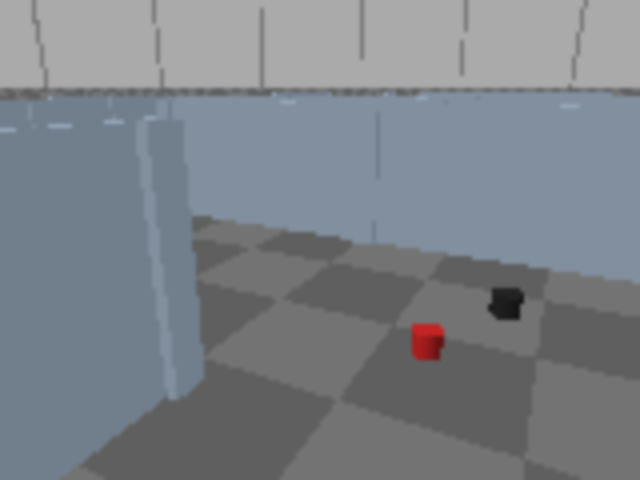puck: (412, 323, 443, 360), (489, 287, 523, 320)
